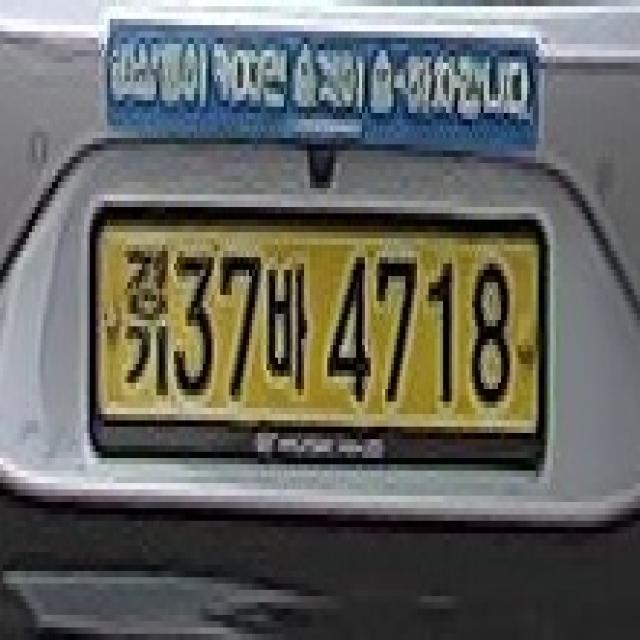plat: (87, 202, 552, 467)
